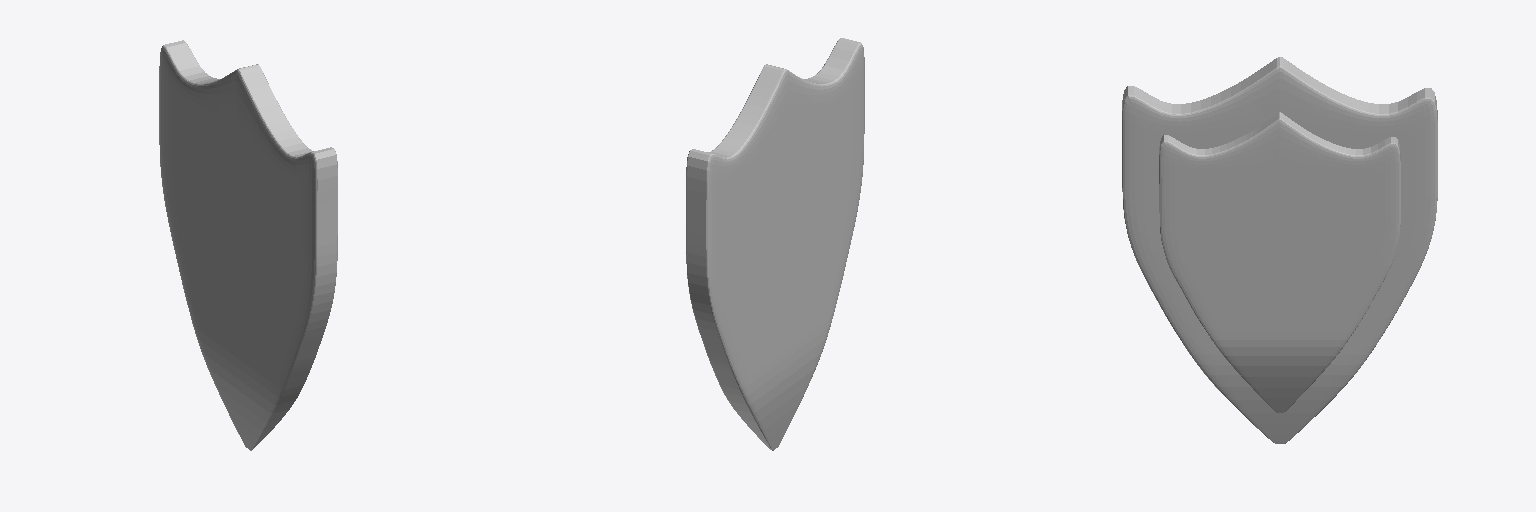
The model's file is PowerUp_Sheild.obj.
3 views of the same model, side by side, from view 1: azimuth 30°, elevation 25°; view 2: azimuth 150°, elevation 25°; view 3: azimuth 270°, elevation 25° (orthographic).
Visible parts, largest first — view 1: Cube.002_Cube.003; view 2: Cube.002_Cube.003; view 3: Cube.003_Cube.005, Cube.002_Cube.003.
Boxes of the visible parts, box(x1,y1,x2,y2) form: Cube.002_Cube.003: box(159, 40, 337, 450); Cube.002_Cube.003: box(686, 38, 864, 450); Cube.003_Cube.005: box(1159, 112, 1400, 412); Cube.002_Cube.003: box(1122, 57, 1437, 443).
Size of the model in its own units: 0.3239 by 3 by 2.25.